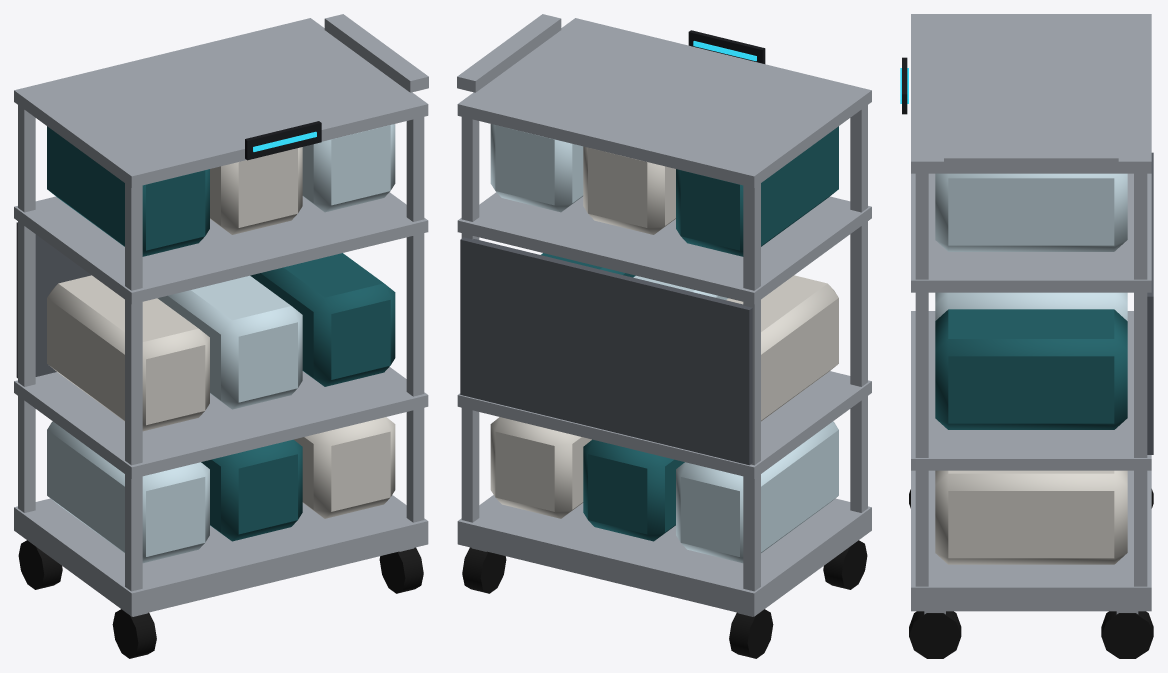
File: medsupply_linen_cart.glb
3 renders of one model, left to right at view 1: azimuth 30°, elevation 25°; view 2: azimuth 150°, elevation 25°; view 3: azimuth 270°, elevation 25°, orthographic. The views are drawn at different scales.
Visible parts, largest first — view 1: medsupply_linen_cart; view 2: medsupply_linen_cart; view 3: medsupply_linen_cart.
Part boxes in pixels (<box>): medsupply_linen_cart: <box>14,14,428,658</box>; medsupply_linen_cart: <box>457,14,871,658</box>; medsupply_linen_cart: <box>900,14,1153,658</box>.
Size of the model in its own units: 0.845 by 1.29 by 0.58.
